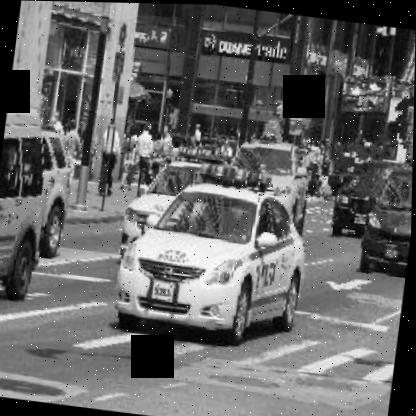emergency: (106, 142, 315, 361)
